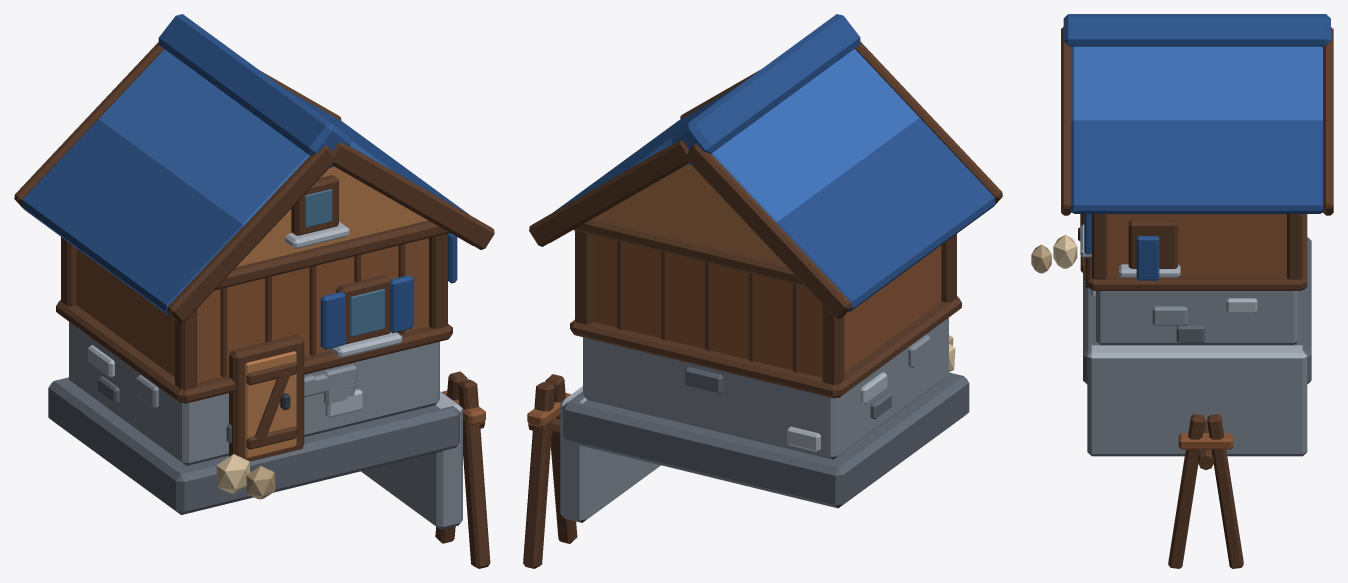
File: Bld_Watermill.fbx
3 renders of one model, left to right at view 1: azimuth 30°, elevation 25°; view 2: azimuth 150°, elevation 25°; view 3: azimuth 270°, elevation 25°, orthographic. The views are drawn at different scales.
Visible parts, largest first — view 1: Bld_Watermill.002; view 2: Bld_Watermill.002; view 3: Bld_Watermill.002.
Part boxes in pixels (<box>): Bld_Watermill.002: <box>14,14,494,568</box>; Bld_Watermill.002: <box>523,14,1002,568</box>; Bld_Watermill.002: <box>1031,14,1333,568</box>.
Size of the model in its own units: 4.42 by 5.8 by 3.44.
